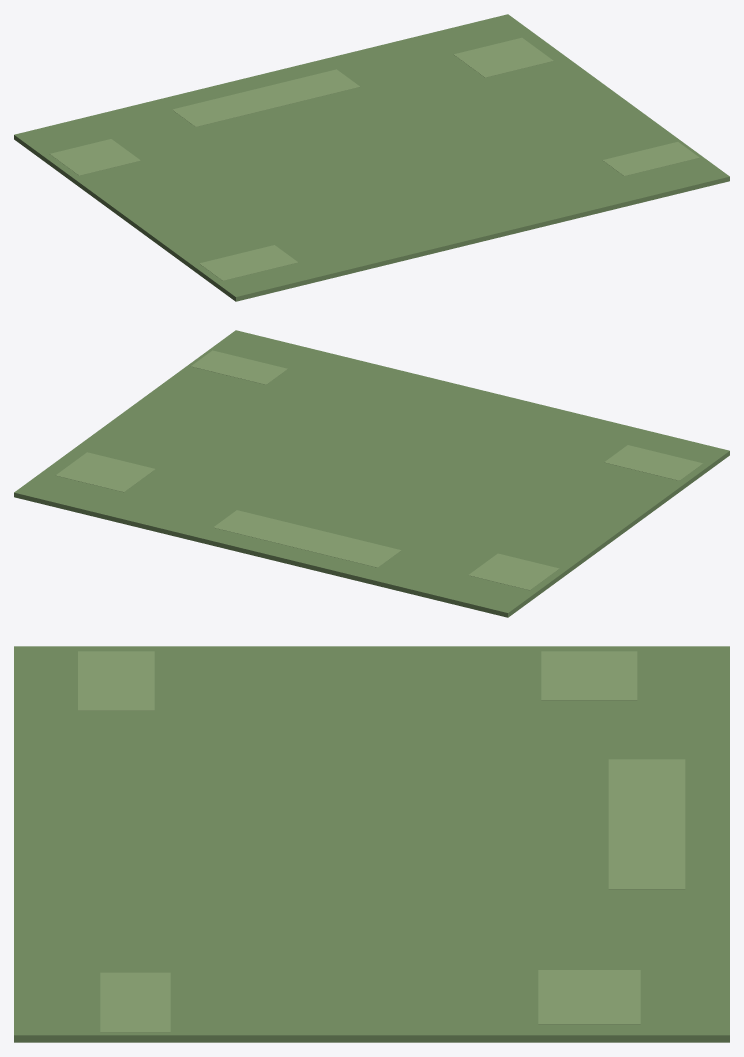
The model's file is terrain_surface.glb.
3 renders of one model, top to bottom at view 1: azimuth 30°, elevation 25°; view 2: azimuth 150°, elevation 25°; view 3: azimuth 270°, elevation 25°, orthographic. The views are drawn at different scales.
Parts seen in each view (by area): view 1: Terrain pad 144 x 112 m, Planted lawn.004, Planted lawn.001, Planted lawn.002, Planted lawn, Planted lawn.003; view 2: Terrain pad 144 x 112 m, Planted lawn.004, Planted lawn.001, Planted lawn.002, Planted lawn, Planted lawn.003; view 3: Terrain pad 144 x 112 m, Planted lawn.004, Planted lawn.001, Planted lawn.002, Planted lawn, Planted lawn.003.
Boxes of the visible parts, box(x1,y1,x2,y2) form: Terrain pad 144 x 112 m: box(14, 14, 729, 301); Planted lawn.004: box(172, 69, 359, 126); Planted lawn.001: box(453, 37, 553, 77); Planted lawn.002: box(50, 139, 140, 175); Planted lawn: box(199, 245, 297, 280); Planted lawn.003: box(602, 142, 699, 175); Terrain pad 144 x 112 m: box(14, 330, 729, 617); Planted lawn.004: box(213, 510, 401, 567); Planted lawn.001: box(55, 452, 155, 492); Planted lawn.002: box(468, 553, 559, 590); Planted lawn: box(604, 445, 702, 480); Planted lawn.003: box(191, 350, 287, 384); Terrain pad 144 x 112 m: box(14, 646, 729, 1042); Planted lawn.004: box(608, 759, 685, 889); Planted lawn.001: box(538, 970, 640, 1024); Planted lawn.002: box(541, 651, 637, 700); Planted lawn: box(78, 651, 154, 710); Planted lawn.003: box(100, 972, 170, 1032).
Bounding box in the file's own units: 144 × 1.35 × 112.
